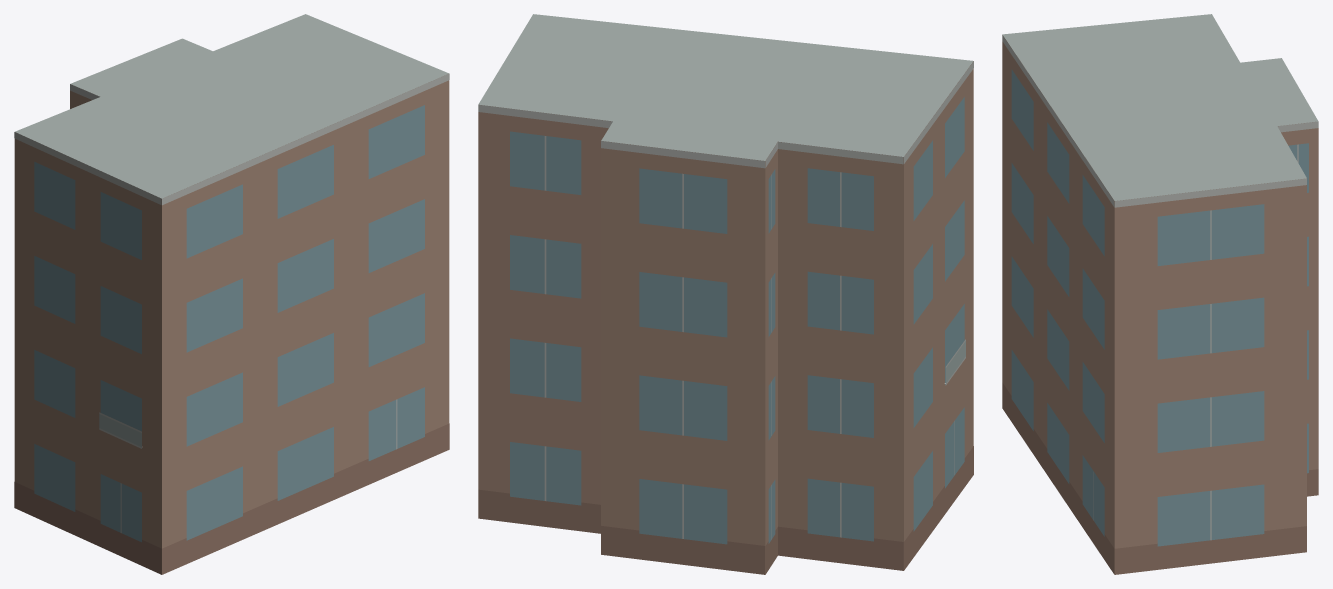
File: survey-upis-32646626.glb
3 renders of one model, left to right at view 1: azimuth 30°, elevation 25°; view 2: azimuth 150°, elevation 25°; view 3: azimuth 270°, elevation 25°, orthographic. The views are drawn at different scales.
Visible parts, largest first — view 1: survey-upis-32646626.tmp; view 2: survey-upis-32646626.tmp; view 3: survey-upis-32646626.tmp.
Boxes of the visible parts, left/top/right/bottom form: survey-upis-32646626.tmp: left=14, top=14, right=449, bottom=574; survey-upis-32646626.tmp: left=478, top=14, right=973, bottom=574; survey-upis-32646626.tmp: left=1002, top=14, right=1318, bottom=574.
Bounding box in the file's own units: 14.77 × 13.75 × 10.55.
